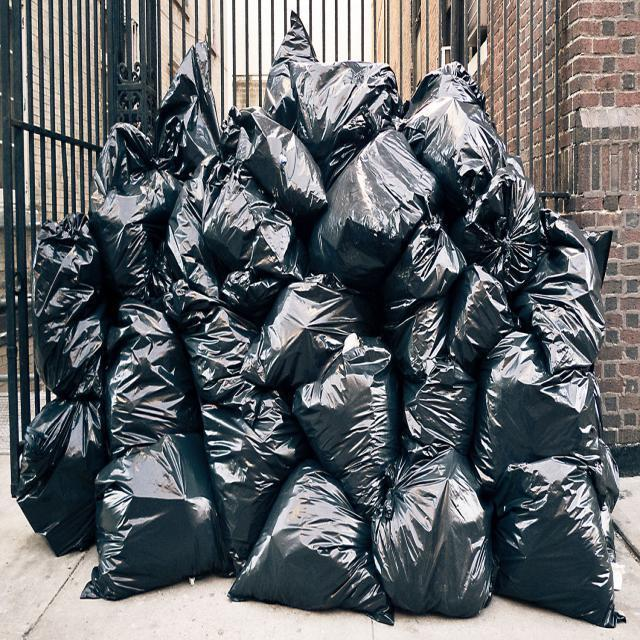Trashbag: (255, 474, 395, 624), (377, 449, 500, 617), (493, 466, 612, 624), (96, 444, 216, 590), (328, 138, 440, 268), (484, 346, 596, 474), (251, 263, 359, 388), (24, 393, 114, 538), (298, 360, 394, 495), (516, 225, 608, 354), (96, 337, 194, 455), (199, 170, 298, 279), (97, 138, 172, 277), (393, 347, 481, 464), (49, 228, 111, 386), (298, 55, 400, 148), (249, 113, 338, 215), (157, 57, 225, 183), (467, 162, 538, 278), (424, 75, 503, 177), (453, 269, 514, 358)
